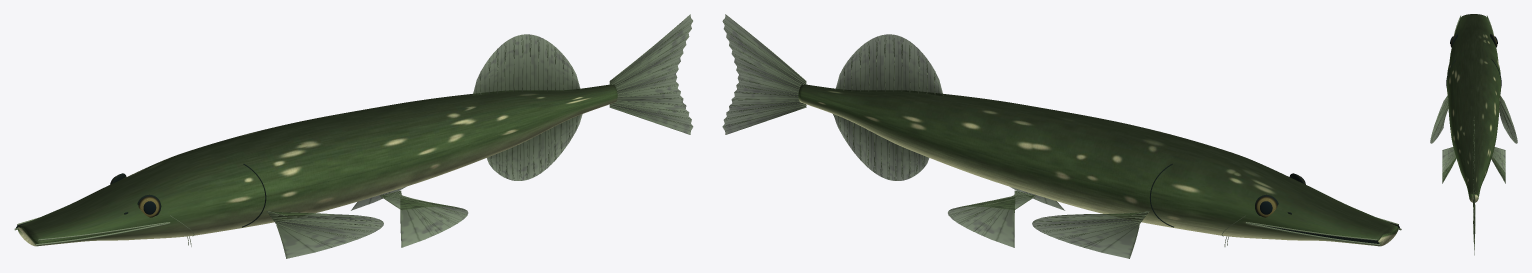
The model's file is pike.glb.
3 renders of one model, left to right at view 1: azimuth 30°, elevation 25°; view 2: azimuth 150°, elevation 25°; view 3: azimuth 270°, elevation 25°, orthographic. The views are drawn at different scales.
Visible parts, largest first — view 1: pike specimen; view 2: pike specimen; view 3: pike specimen.
Boxes of the visible parts, box(x1,y1,x2,y2) form: pike specimen: box(14, 14, 693, 258); pike specimen: box(722, 14, 1401, 258); pike specimen: box(1430, 14, 1517, 255).
Bounding box in the file's own units: 2.6 × 0.5925 × 0.4695.
Materials: 9 (5 with a texture image).
